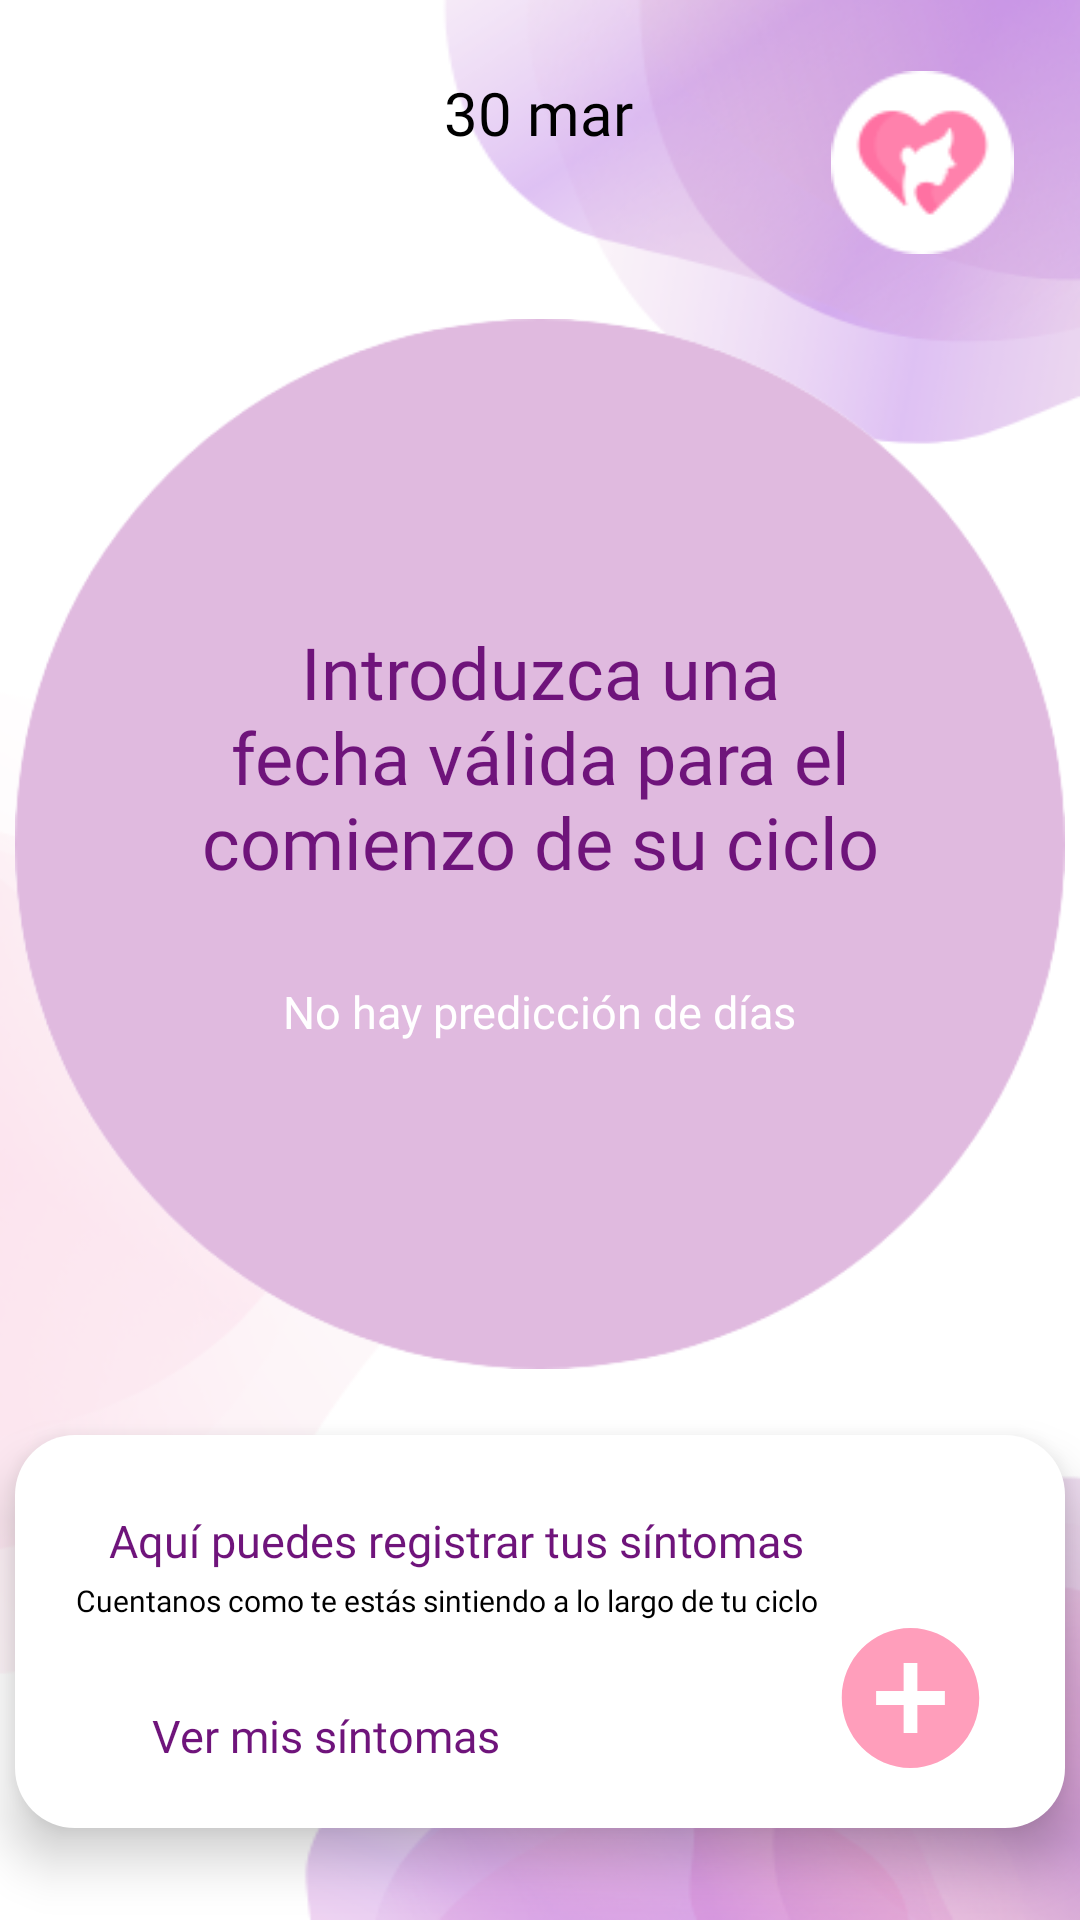

Icon bounding boxes for this 1080px×1920px phone screenshot, format bbox=(x1, y1, x2, y2):
perfil: bbox=(831, 71, 1014, 254)
